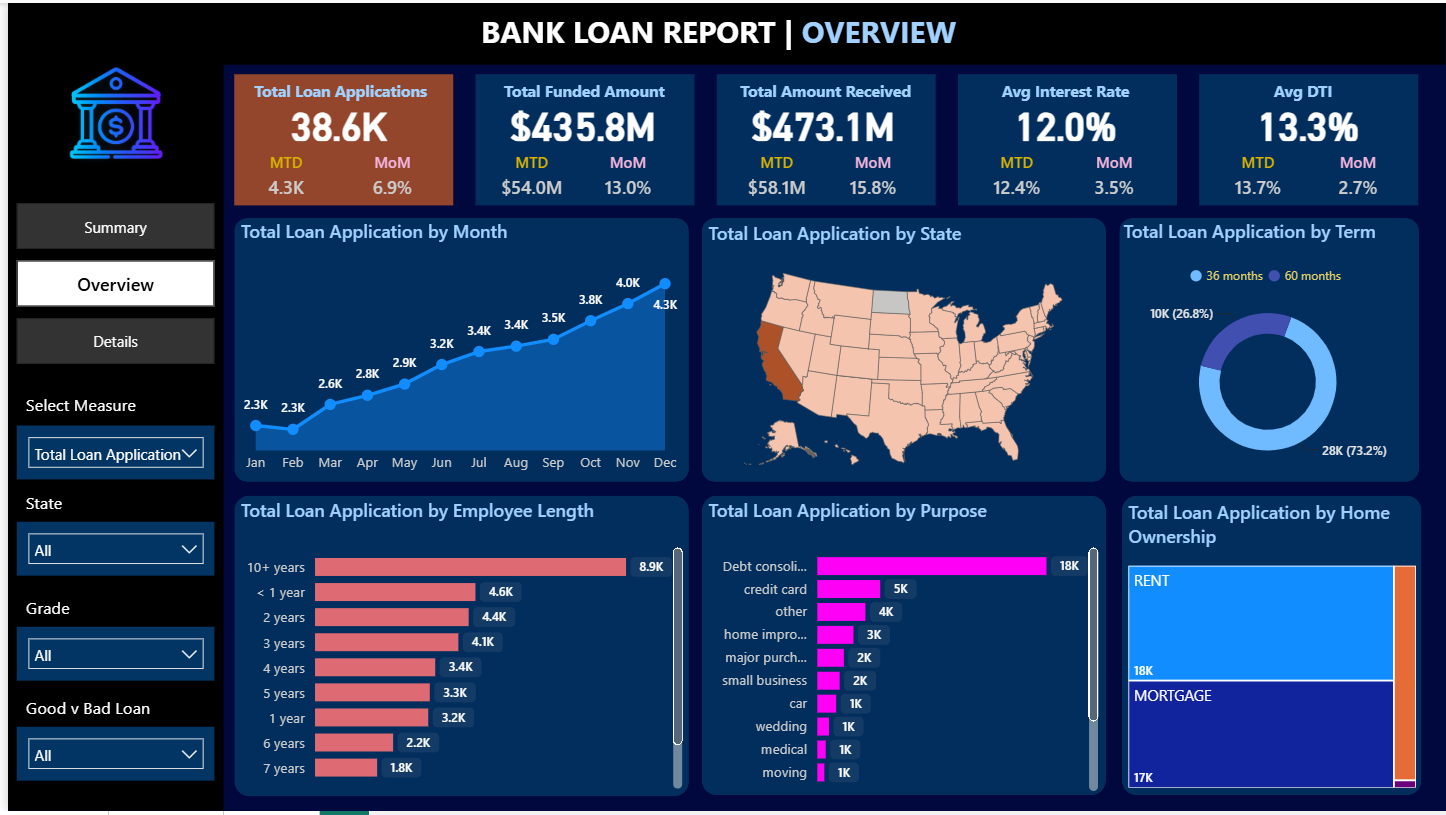

What the dashboard file says about the page in this screenshot:
{"tool":"powerbi","page":{"name":"Overview","canvas":[1280,720],"ordinal":1},"visuals":[{"type":"shape","box":[0,0,1280,55],"z":0},{"type":"shape","box":[0,55,192,665],"z":1000},{"type":"textbox","box":[416,2,448,48],"z":2000},{"type":"shape","box":[202,64,195,117],"z":3000},{"type":"cardVisual","fields":{"Data":["bank_loan_data.Total Loan Application"]},"box":[224,89,142,39],"z":4000},{"type":"textbox","box":[208,64,176,32],"z":5000},{"type":"cardVisual","title":"MTD","fields":{"Data":["bank_loan_data.MTD Loan Applications"]},"box":[224,133,48,48],"z":6000},{"type":"cardVisual","title":"MoM","fields":{"Data":["bank_loan_data.MoM Loan Application"]},"box":[318,132,48,48],"z":7000},{"type":"shape","box":[416.8,64,195,117],"z":8000},{"type":"textbox","box":[425,64,176,32],"z":9000},{"type":"cardVisual","fields":{"Data":["bank_loan_data.Total Funded Amount"]},"box":[442,89,140,39],"z":10000},{"type":"cardVisual","title":"MTD","fields":{"Data":["bank_loan_data.MTD Funded Amount"]},"box":[432,132,69,48],"z":11000},{"type":"cardVisual","title":"MoM","fields":{"Data":["bank_loan_data.MoM Total Funded Amount"]},"box":[518,132,69,48],"z":12000},{"type":"shape","box":[631.5,64,195,117],"z":13000},{"type":"textbox","box":[640,64,176,32],"z":14000},{"type":"cardVisual","fields":{"Data":["bank_loan_data.Total Amount Received"]},"box":[656,89,140,39],"z":15000},{"type":"cardVisual","title":"MTD","fields":{"Data":["bank_loan_data.MTD Total Amount Recived"]},"box":[650,132,69,48],"z":16000},{"type":"cardVisual","title":"MoM","fields":{"Data":["bank_loan_data.MoM Total Amount Recived"]},"box":[736,132,69,48],"z":17000},{"type":"shape","box":[846.2,64,195,117],"z":18000},{"type":"shape","box":[1061,64,195,117],"z":19000},{"type":"textbox","box":[854,64,176,32],"z":20000},{"type":"cardVisual","fields":{"Data":["bank_loan_data.Avg Interest Rate"]},"box":[872,89,140,39],"z":21000},{"type":"cardVisual","title":"MoM","fields":{"Data":["bank_loan_data.MoM Avg Int Rate"]},"box":[951,132,69,48],"z":22000},{"type":"cardVisual","title":"MTD","fields":{"Data":["bank_loan_data.MTD Avg Int Amount"]},"box":[864,132,69,48],"z":23000},{"type":"textbox","box":[1065,64,176,32],"z":24000},{"type":"cardVisual","fields":{"Data":["bank_loan_data.Avg DTI"]},"box":[1088,89,140,39],"z":25000},{"type":"cardVisual","title":"MTD","fields":{"Data":["bank_loan_data.MTD Avg DTI"]},"box":[1079,132,69,48],"z":26000},{"type":"cardVisual","title":"MoM","fields":{"Data":["bank_loan_data.MoM Avg DTI"]},"box":[1168,132,69,48],"z":27000},{"type":"shape","box":[202,192,405,235],"z":28000},{"type":"slicer","fields":{"Values":["bank_loan_data.address_state"]},"box":[8,462,176,48],"z":29000},{"type":"textbox","box":[11,430,64,32],"z":30000},{"type":"slicer","fields":{"Values":["bank_loan_data.grade"]},"box":[8,555,176,48],"z":31000},{"type":"textbox","box":[11,523,64,32],"z":32000},{"type":"slicer","fields":{"Values":["bank_loan_data.Good v Bad Loan"]},"box":[8,644,176,48],"z":33000},{"type":"textbox","box":[11,612,144,32],"z":34000},{"type":"areaChart","fields":{"Y":["bank_loan_data.Total Loan Application"],"Category":["Date Table.Month"]},"box":[203,192,401,236],"z":35000},{"type":"slicer","fields":{"Values":["Select Measure.Select Measure"]},"box":[8,376,176,48],"z":36000},{"type":"textbox","box":[11,343,112,32],"z":37000},{"type":"shape","box":[618,192,360,235],"z":38000},{"type":"shapeMap","fields":{"Value":["bank_loan_data.Total Loan Application"],"Category":["bank_loan_data.address_state"]},"box":[619,194,357,232],"z":39000},{"type":"shape","box":[990,192,267,235],"z":40000},{"type":"donutChart","fields":{"Y":["bank_loan_data.Total Loan Application"],"Category":["bank_loan_data.term"]},"box":[989,192,267,233],"z":41000},{"type":"shape","box":[202,439,405,268],"z":42000},{"type":"barChart","fields":{"Y":["bank_loan_data.Total Loan Application"],"Category":["bank_loan_data.emp_length"]},"box":[203,440,403,265],"z":43000},{"type":"shape","box":[618,439,360,267],"z":44000},{"type":"barChart","fields":{"Y":["bank_loan_data.Total Loan Application"],"Category":["bank_loan_data.purpose"]},"box":[619,440,357,267],"z":45000},{"type":"shape","box":[992,439,267,267],"z":46000},{"type":"treemap","fields":{"Values":["bank_loan_data.Total Loan Application"],"Group":["bank_loan_data.home_ownership"]},"box":[993,442,266,262],"z":47000},{"type":"pageNavigator","box":[8,178,176,144],"z":48000},{"type":"image","box":[32,41,128,112],"z":49000}]}

Visuals, with their boxes in screenshot pixels (x1, y1, x2, y2), scaled from the page's 1280x720 canvas onto the 1446x815 screenshot:
shape: box(0, 0, 1445, 62)
shape: box(0, 62, 217, 814)
textbox: box(470, 2, 976, 57)
shape: box(228, 72, 448, 205)
cardVisual - bank_loan_data.Total Loan Application: box(253, 101, 413, 145)
textbox: box(235, 72, 434, 109)
"MTD" cardVisual: box(253, 151, 307, 205)
"MoM" cardVisual: box(359, 149, 413, 204)
shape: box(471, 72, 691, 205)
textbox: box(480, 72, 679, 109)
cardVisual - bank_loan_data.Total Funded Amount: box(499, 101, 657, 145)
"MTD" cardVisual: box(488, 149, 566, 204)
"MoM" cardVisual: box(585, 149, 663, 204)
shape: box(713, 72, 934, 205)
textbox: box(723, 72, 922, 109)
cardVisual - bank_loan_data.Total Amount Received: box(741, 101, 899, 145)
"MTD" cardVisual: box(734, 149, 812, 204)
"MoM" cardVisual: box(831, 149, 909, 204)
shape: box(956, 72, 1176, 205)
shape: box(1199, 72, 1419, 205)
textbox: box(965, 72, 1164, 109)
cardVisual - bank_loan_data.Avg Interest Rate: box(985, 101, 1143, 145)
"MoM" cardVisual: box(1074, 149, 1152, 204)
"MTD" cardVisual: box(976, 149, 1054, 204)
textbox: box(1203, 72, 1402, 109)
cardVisual - bank_loan_data.Avg DTI: box(1229, 101, 1387, 145)
"MTD" cardVisual: box(1219, 149, 1297, 204)
"MoM" cardVisual: box(1319, 149, 1397, 204)
shape: box(228, 217, 686, 483)
slicer - bank_loan_data.address_state: box(9, 523, 208, 577)
textbox: box(12, 487, 85, 523)
slicer - bank_loan_data.grade: box(9, 628, 208, 683)
textbox: box(12, 592, 85, 628)
slicer - bank_loan_data.Good v Bad Loan: box(9, 729, 208, 783)
textbox: box(12, 693, 175, 729)
areaChart - bank_loan_data.Total Loan Application x Date Table.Month: box(229, 217, 682, 484)
slicer - Select Measure.Select Measure: box(9, 426, 208, 480)
textbox: box(12, 388, 139, 424)
shape: box(698, 217, 1105, 483)
shapeMap - bank_loan_data.Total Loan Application x bank_loan_data.address_state: box(699, 220, 1103, 482)
shape: box(1118, 217, 1420, 483)
donutChart - bank_loan_data.Total Loan Application x bank_loan_data.term: box(1117, 217, 1419, 481)
shape: box(228, 497, 686, 800)
barChart - bank_loan_data.Total Loan Application x bank_loan_data.emp_length: box(229, 498, 685, 798)
shape: box(698, 497, 1105, 799)
barChart - bank_loan_data.Total Loan Application x bank_loan_data.purpose: box(699, 498, 1103, 800)
shape: box(1121, 497, 1422, 799)
treemap - bank_loan_data.Total Loan Application x bank_loan_data.home_ownership: box(1122, 500, 1422, 797)
pageNavigator: box(9, 201, 208, 364)
image: box(36, 46, 181, 173)
